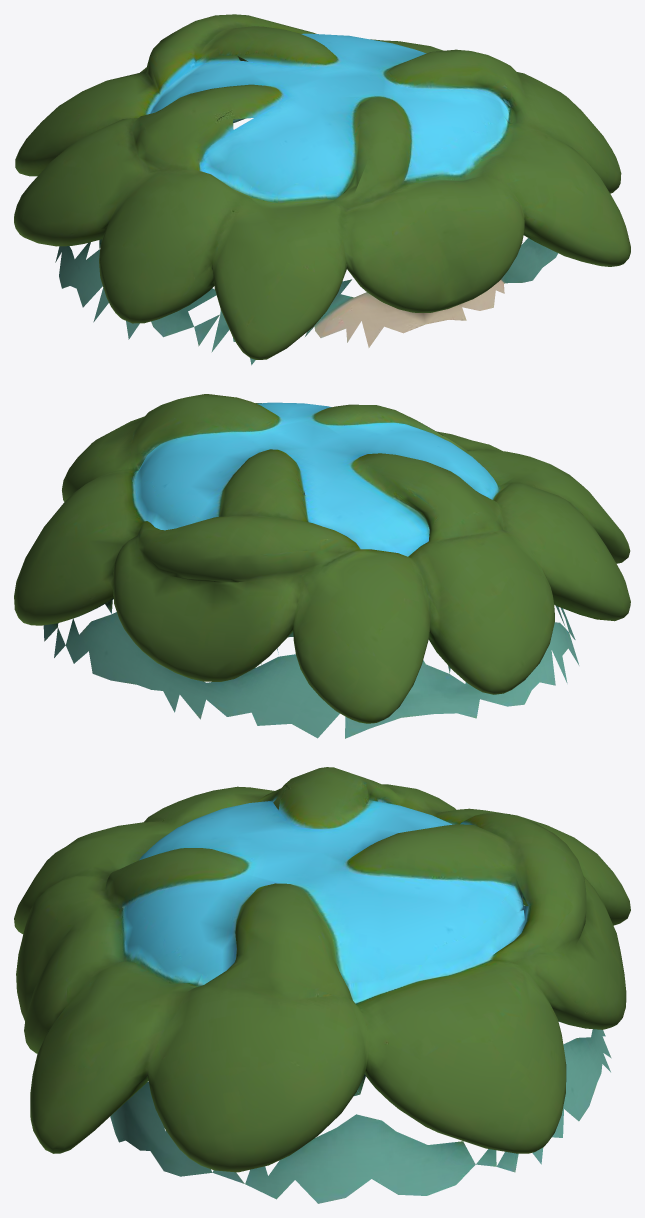
Rendered from mizu_reveal.glb.
3 renders of one model, top to bottom at view 1: azimuth 30°, elevation 25°; view 2: azimuth 150°, elevation 25°; view 3: azimuth 270°, elevation 25°, orthographic. The views are drawn at different scales.
Visible parts, largest first — view 1: mizu_reveal; view 2: mizu_reveal; view 3: mizu_reveal.
Boxes of the visible parts, bbox=[...] form: mizu_reveal: bbox=[14, 14, 630, 365]; mizu_reveal: bbox=[14, 394, 630, 738]; mizu_reveal: bbox=[14, 767, 630, 1203].
Bounding box in the file's own units: 0.86 × 0.3306 × 0.7276.
1 material, 1 textured.
